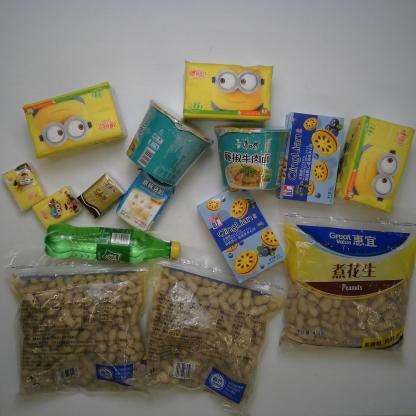Dessert: (194, 183, 291, 287), (274, 111, 346, 207)
Dried Food: (118, 240, 294, 416), (1, 246, 162, 411), (272, 209, 416, 358)
Drink: (41, 217, 185, 266)
Instant Noodles: (124, 96, 216, 188), (209, 123, 294, 192)
Milk: (114, 163, 179, 236)
Tissue: (20, 80, 130, 162), (332, 114, 416, 216), (178, 59, 278, 126), (76, 169, 127, 221), (0, 160, 50, 213), (30, 183, 86, 230)
